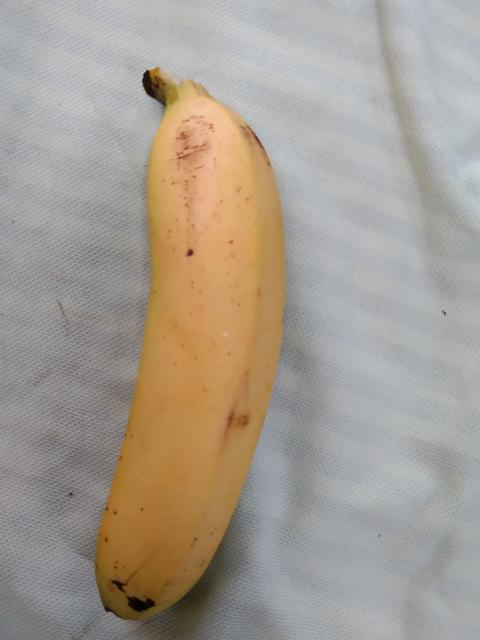freshripe: (76, 93, 305, 614)
